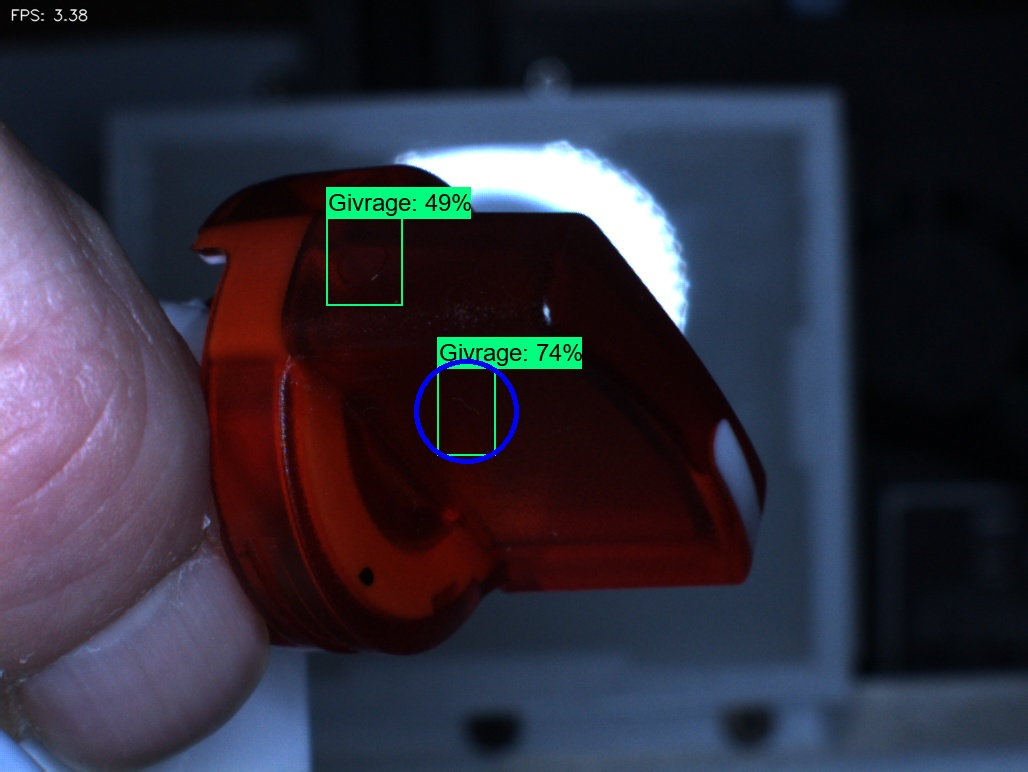PointNoir: (325, 541, 401, 618)
